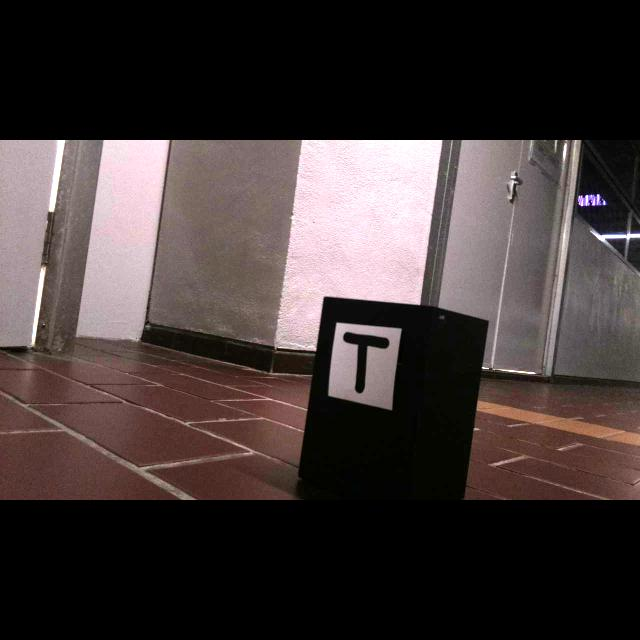T: (344, 332, 391, 394)
